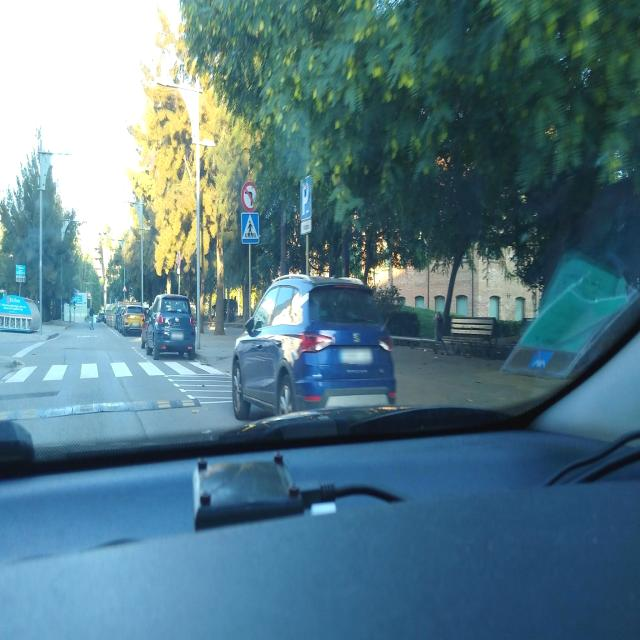car: (230, 273, 398, 419), (144, 293, 197, 359), (121, 303, 145, 335), (140, 305, 152, 345), (115, 304, 126, 330), (97, 308, 106, 322)
